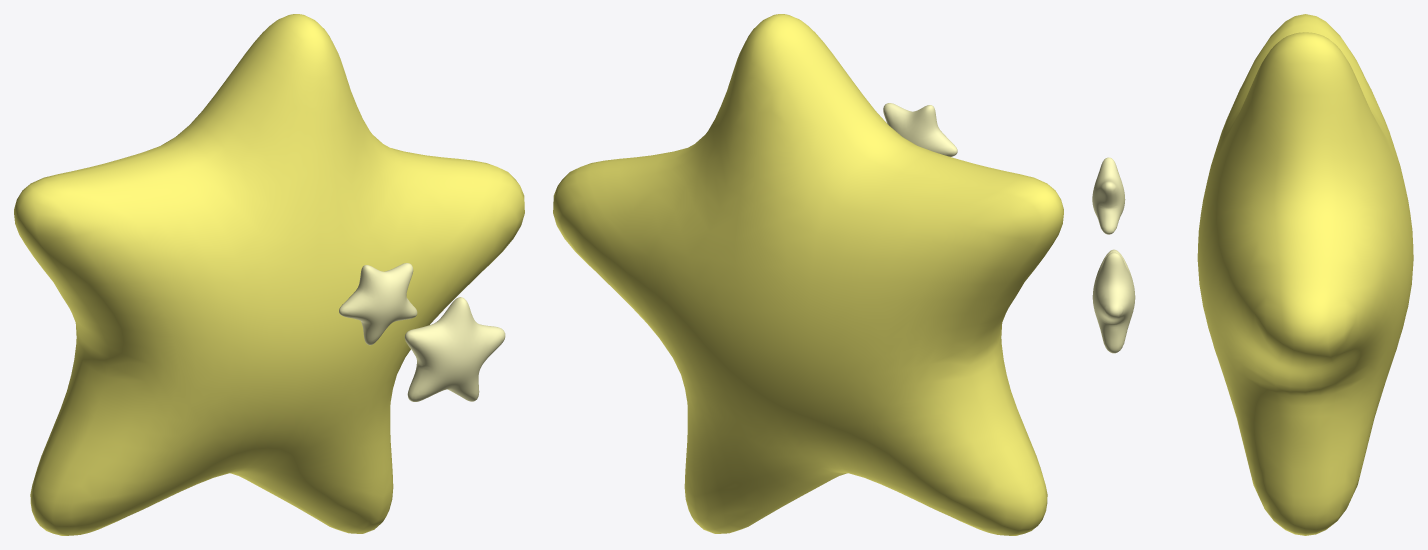
File: mystar.glb
The picture shows the model from 3 angles, left to right: view 1: azimuth 30°, elevation 25°; view 2: azimuth 150°, elevation 25°; view 3: azimuth 270°, elevation 25°; orthographic projection. The views are drawn at different scales.
Visible parts, largest first — view 1: node_id5, node_id8, node_id11; view 2: node_id5, node_id11; view 3: node_id5, node_id8, node_id11.
Part boxes in pixels (box(x1,y1,x2,y2)): node_id5: box(14, 14, 524, 535); node_id8: box(404, 297, 505, 401); node_id11: box(339, 263, 417, 345); node_id5: box(553, 14, 1063, 535); node_id11: box(883, 103, 957, 156); node_id5: box(1197, 14, 1413, 535); node_id8: box(1092, 249, 1135, 353); node_id11: box(1092, 157, 1125, 234).
Bounding box in the file's own units: 0.3577 × 0.3578 × 0.2199.
Materials: 3 (3 with a texture image).
